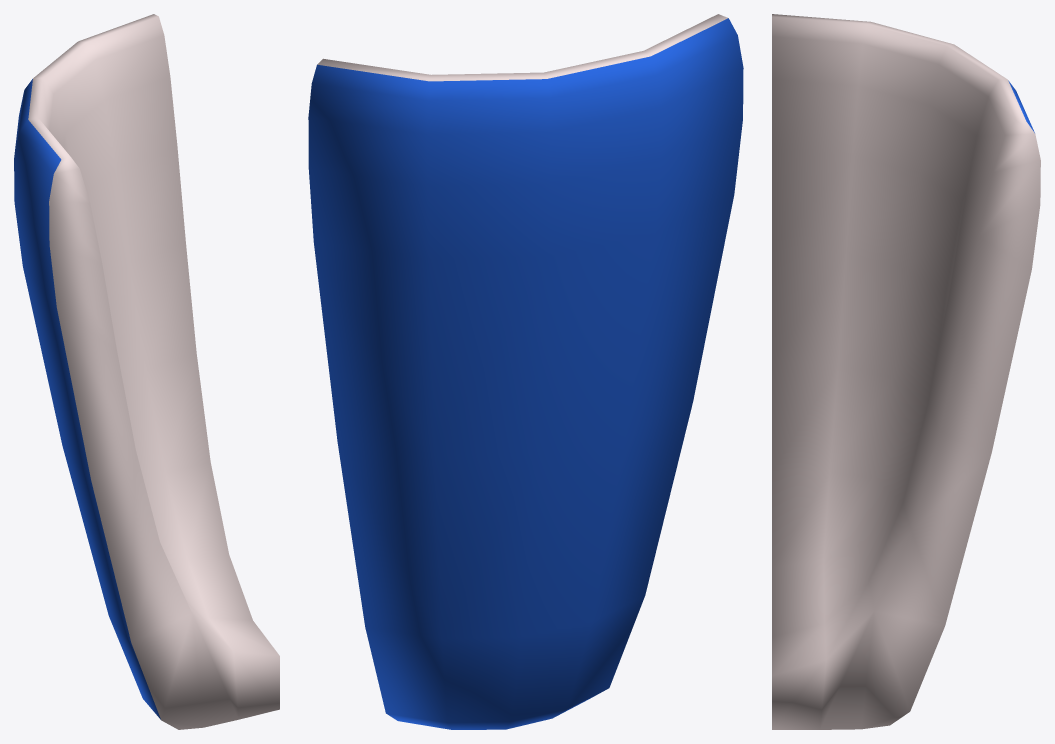
File: Cup01_Part01.fbx
The picture shows the model from 3 angles, left to right: view 1: azimuth 30°, elevation 25°; view 2: azimuth 150°, elevation 25°; view 3: azimuth 270°, elevation 25°; orthographic projection. The views are drawn at different scales.
Parts seen in each view (by area): view 1: Cup01_Part_01; view 2: Cup01_Part_01; view 3: Cup01_Part_01.
Part boxes in pixels (bbox=[...]): Cup01_Part_01: bbox=[14, 14, 279, 729]; Cup01_Part_01: bbox=[308, 14, 743, 729]; Cup01_Part_01: bbox=[772, 14, 1040, 729].
Bounding box in the file's own units: 157 × 392 × 157.
